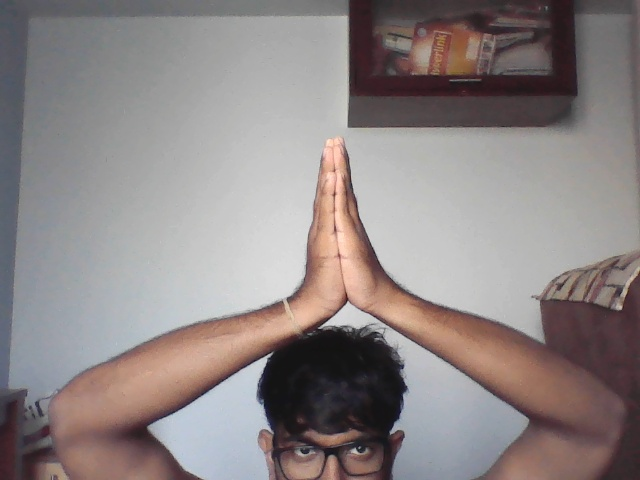Sign: (276, 126, 387, 323)
